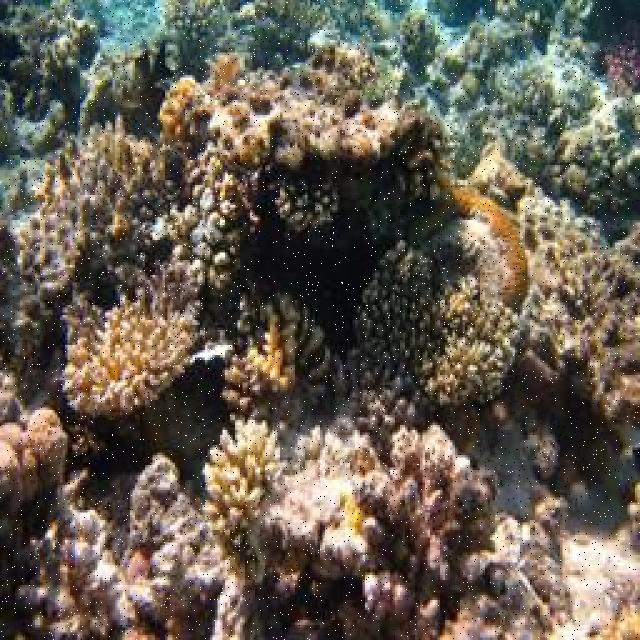reefs: (18, 30, 534, 434), (0, 410, 638, 638)
